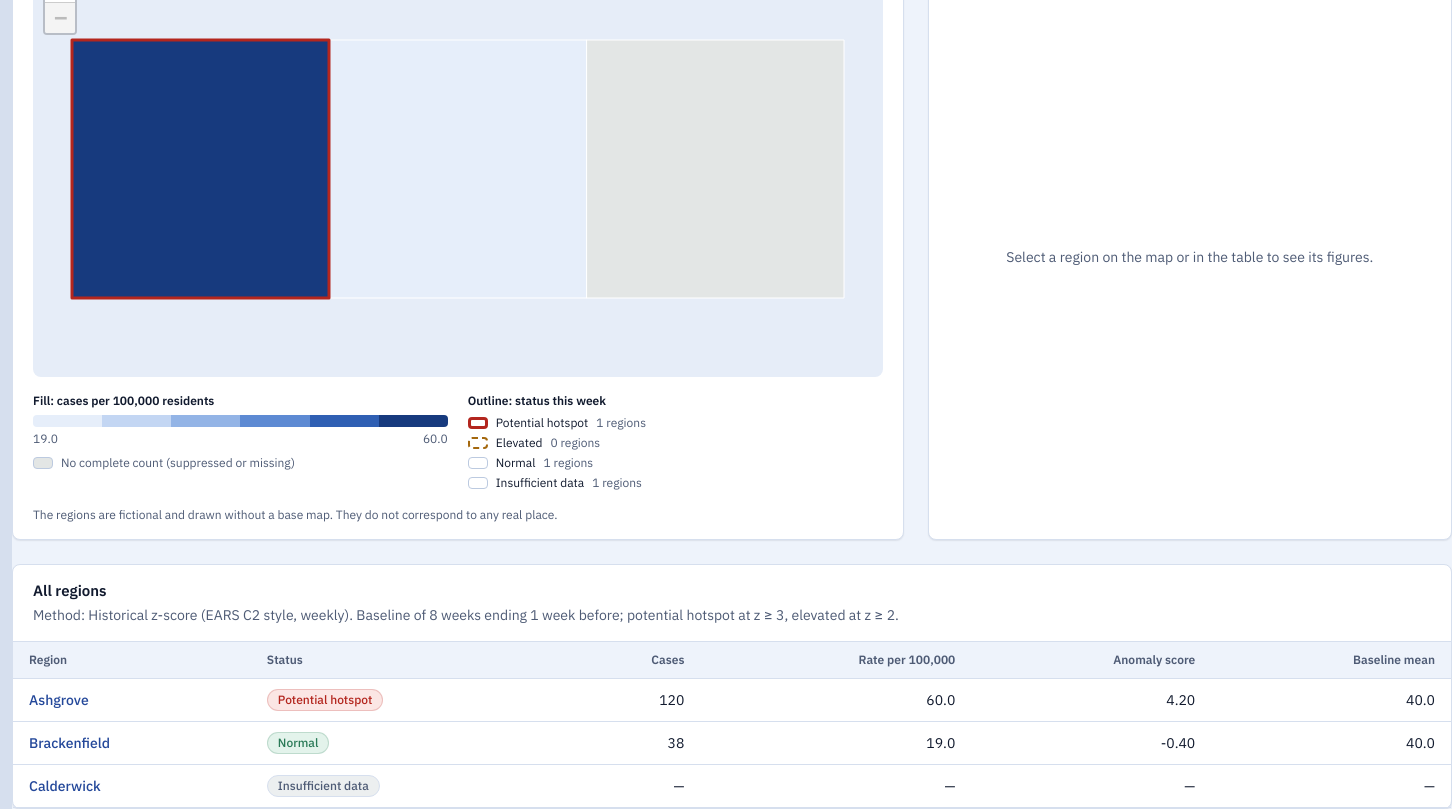
Scenario: Surveillance page › shows "Not available" rather than zero for a region without a complete count
(page scrolled)
What coordinates should you click on to do the following:
click the button "Calderwick"
I would click on:
 (65, 786)
Its box is [29,776,101,796].
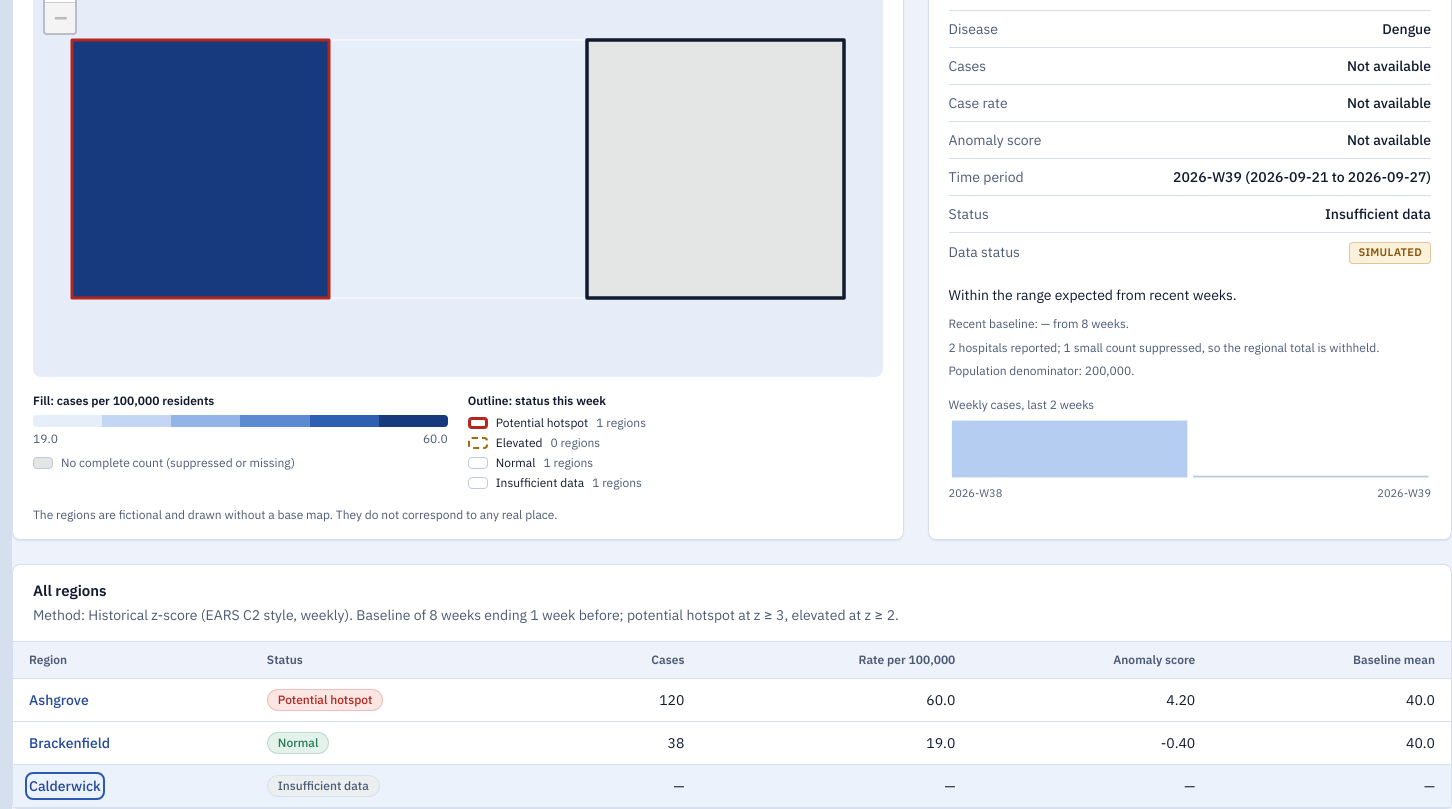
expect the text "Not available" is shown 3 times: met, box [1347,56,1431,76]; [1347,93,1431,113]; [1347,130,1431,150]
